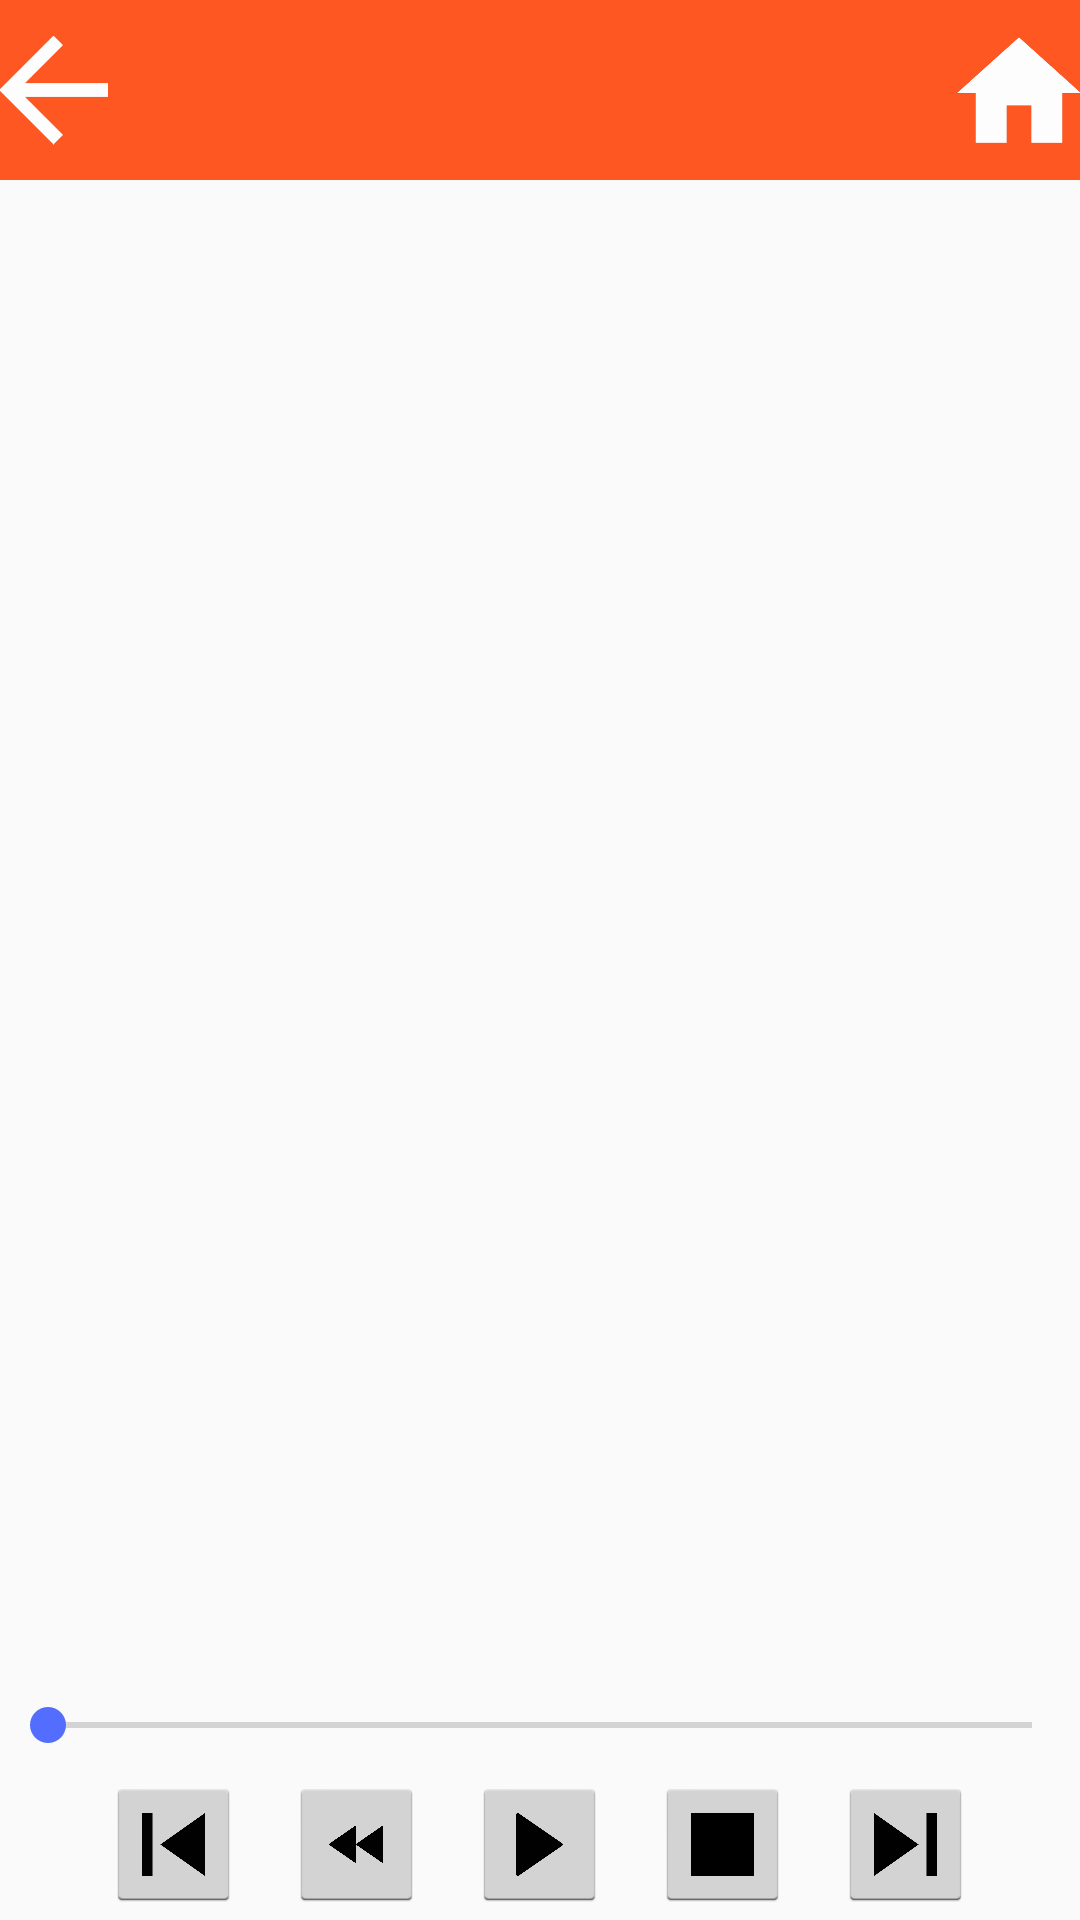

Named icons in this screenshot (1080*1920) and their centers, (x=x, y=y):
go back left arrow: (x=54, y=90)
home: (x=1018, y=90)
next button: (x=905, y=1845)
play button: (x=539, y=1845)
previous button: (x=173, y=1845)
stop button: (x=722, y=1845)
